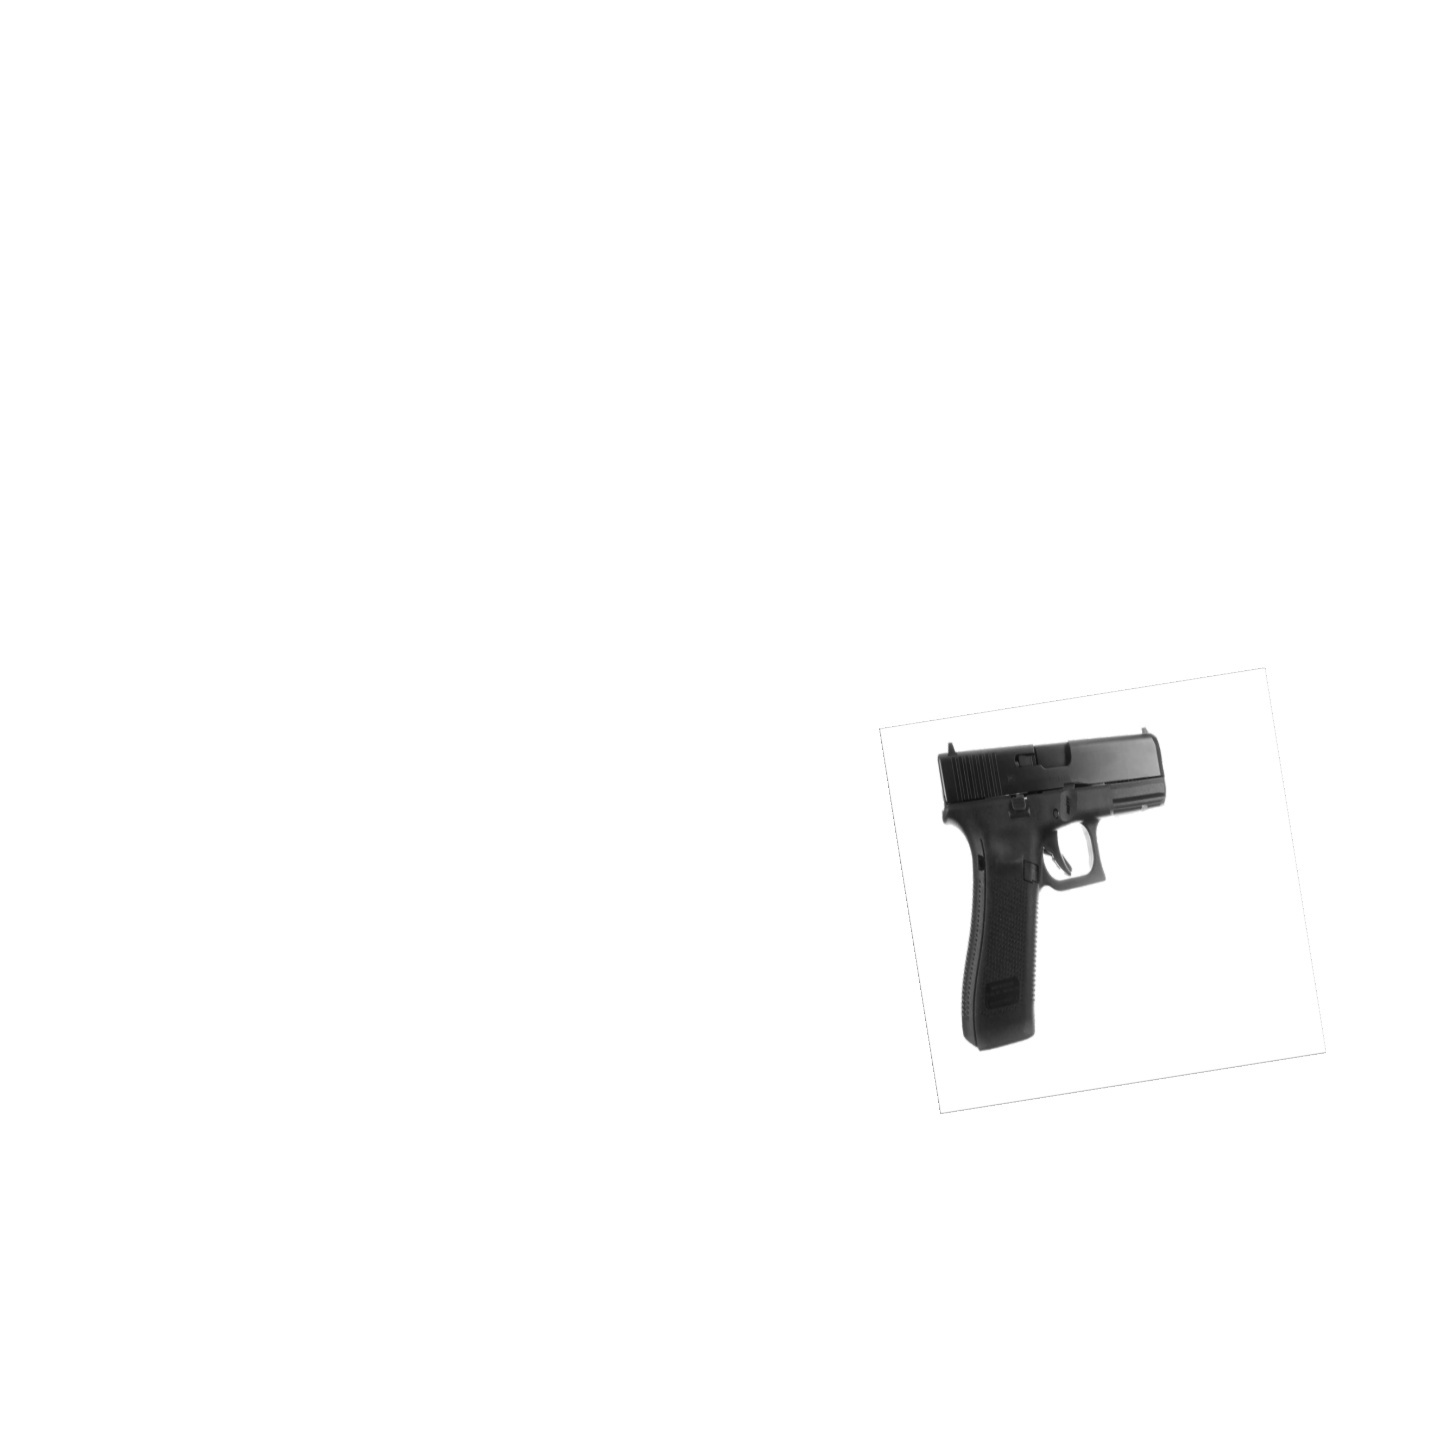gun: (938, 727, 1167, 1051)
